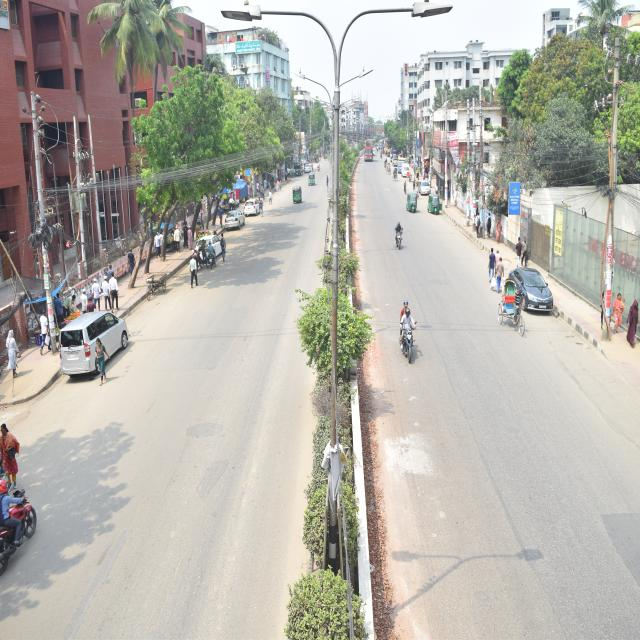bus: (358, 129, 382, 180)
car: (55, 283, 158, 402), (487, 242, 574, 361), (187, 185, 234, 291), (219, 200, 260, 258), (243, 193, 280, 244), (419, 173, 448, 216), (305, 156, 323, 188), (400, 158, 415, 189)
pickup-van: (385, 282, 431, 426), (0, 464, 52, 553), (388, 212, 418, 278), (206, 228, 216, 292), (291, 159, 306, 183), (314, 148, 324, 184), (384, 155, 391, 176)
